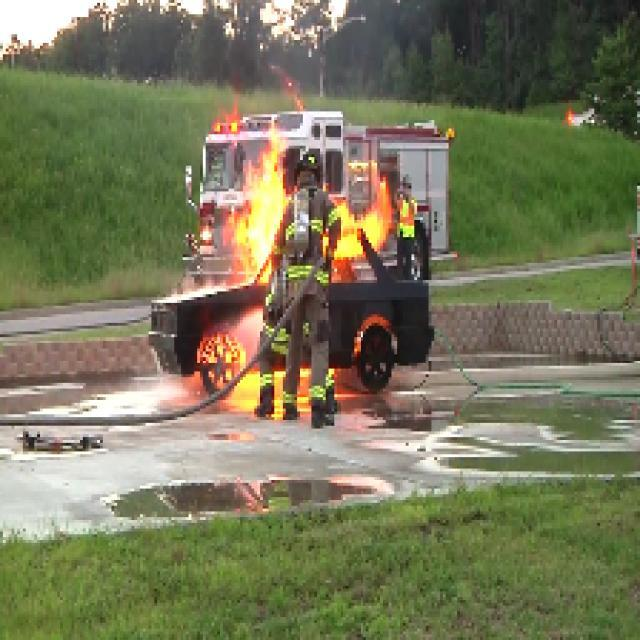Fire: (236, 168, 278, 268), (332, 206, 394, 250)
